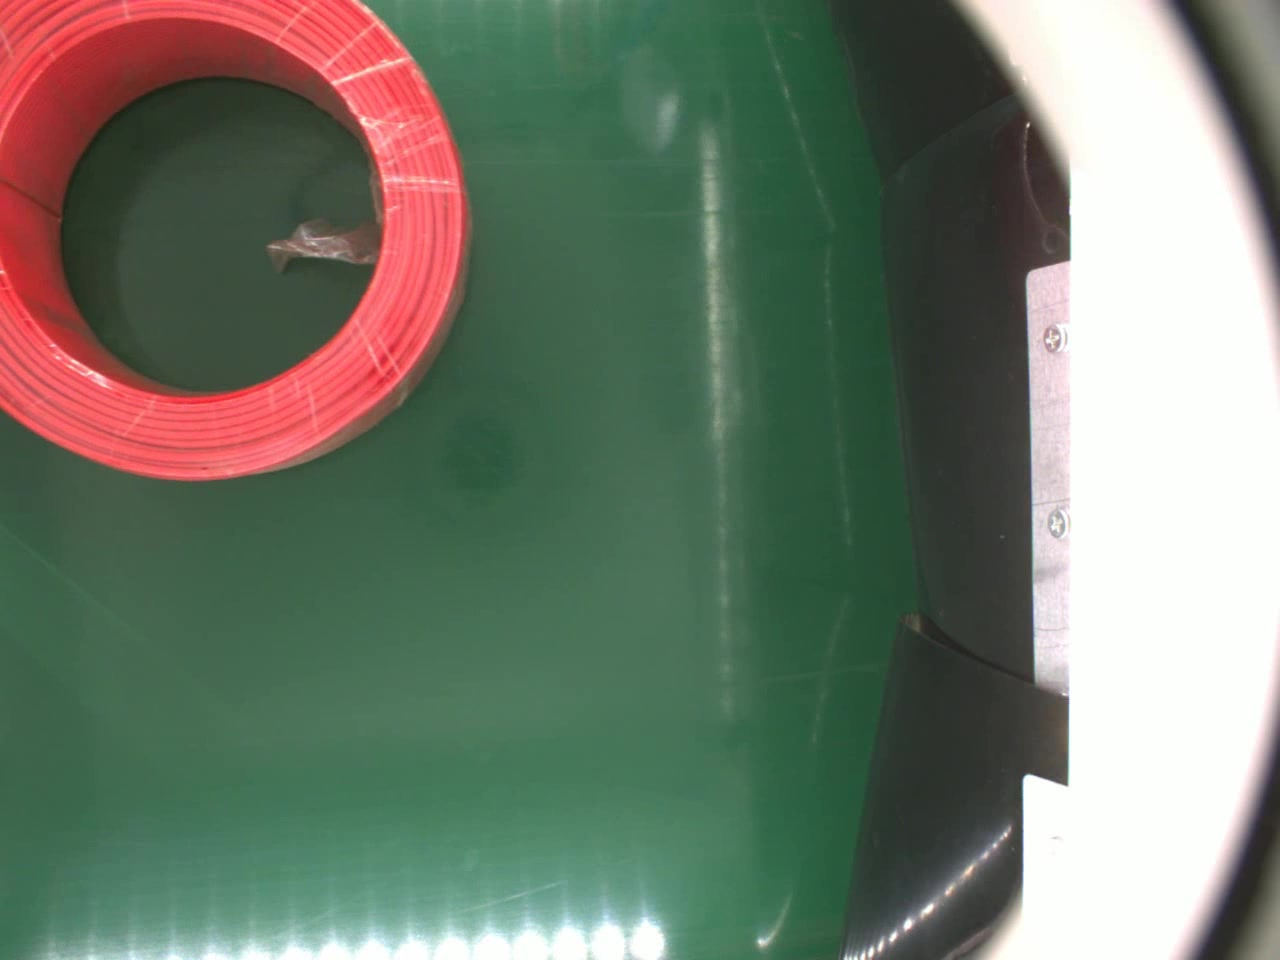red: (0, 0, 472, 483)
